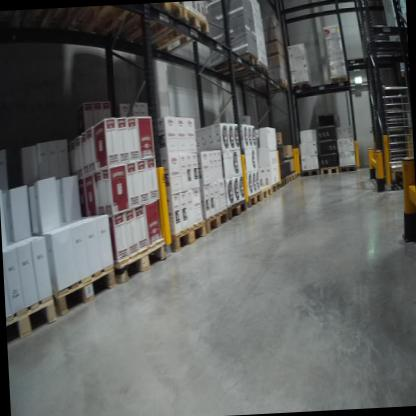pallet: (46, 242, 121, 326), (104, 2, 189, 59), (132, 6, 214, 62), (113, 231, 172, 297), (4, 287, 60, 349), (210, 48, 261, 84), (221, 59, 273, 92), (163, 218, 209, 253), (375, 156, 413, 183), (248, 75, 292, 95), (200, 207, 231, 234), (224, 199, 248, 221), (295, 164, 320, 180), (327, 74, 350, 91), (290, 78, 317, 91), (244, 189, 263, 206), (339, 162, 357, 176), (319, 163, 339, 175), (265, 181, 281, 195), (256, 185, 273, 198), (277, 177, 288, 188)
